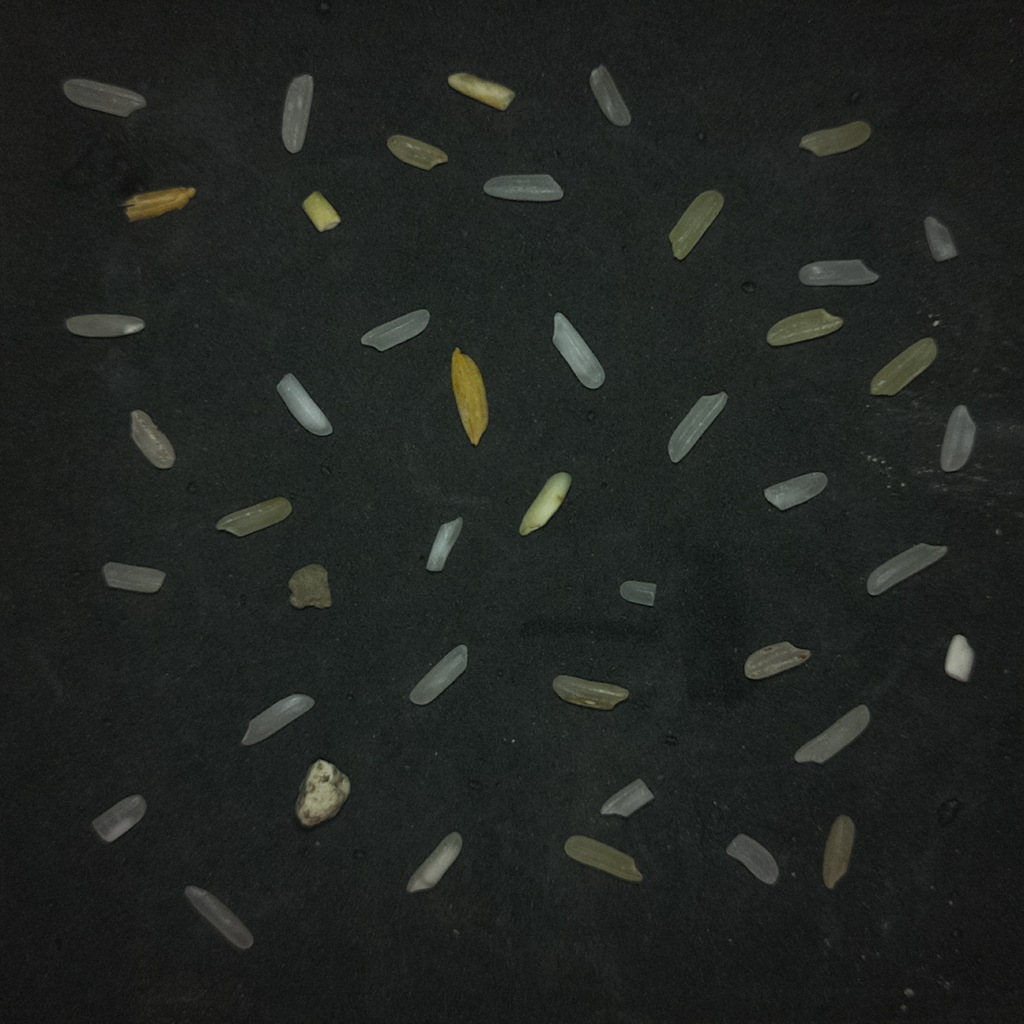broken: (727, 833, 778, 884), (92, 794, 145, 842), (744, 641, 810, 679), (131, 410, 174, 468), (763, 472, 827, 510), (940, 405, 975, 471), (600, 778, 653, 816), (101, 562, 165, 593), (924, 216, 957, 261), (619, 580, 656, 606)
chalky: (553, 313, 604, 389), (276, 373, 332, 435), (406, 832, 462, 892), (519, 472, 571, 535), (426, 516, 462, 571), (944, 634, 974, 682)
discolored: (870, 337, 937, 395), (669, 190, 723, 259), (564, 835, 642, 882), (215, 497, 291, 536), (767, 308, 842, 346), (552, 675, 628, 710), (447, 72, 514, 110), (800, 120, 870, 156), (823, 815, 853, 889), (387, 134, 447, 170), (302, 191, 339, 232)
foreign: (295, 759, 350, 827), (288, 563, 331, 608)
paddy: (451, 348, 488, 445), (122, 187, 195, 221)
whole: (794, 704, 870, 764), (184, 885, 252, 949), (866, 543, 947, 595), (668, 392, 727, 462), (241, 694, 314, 745), (409, 644, 467, 705), (62, 78, 145, 116), (362, 309, 429, 351), (281, 74, 313, 153), (589, 65, 630, 126), (483, 175, 563, 201), (798, 260, 878, 285), (65, 313, 144, 337)
